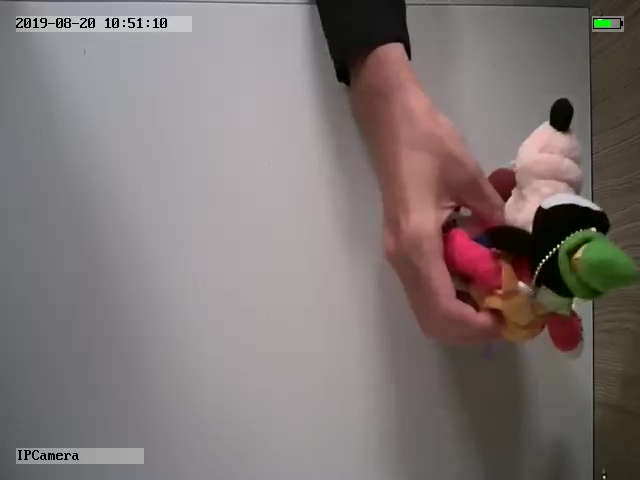goofy: (445, 98, 640, 358)
